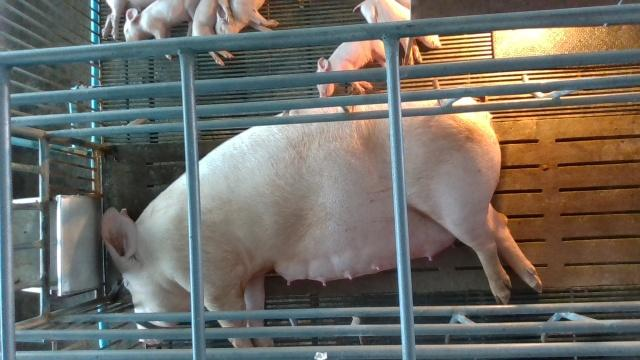piglet: (352, 0, 441, 63), (124, 0, 204, 60), (316, 39, 386, 98), (193, 0, 234, 66), (215, 0, 279, 37)
sow-sleep-lactate: (102, 96, 543, 346)
